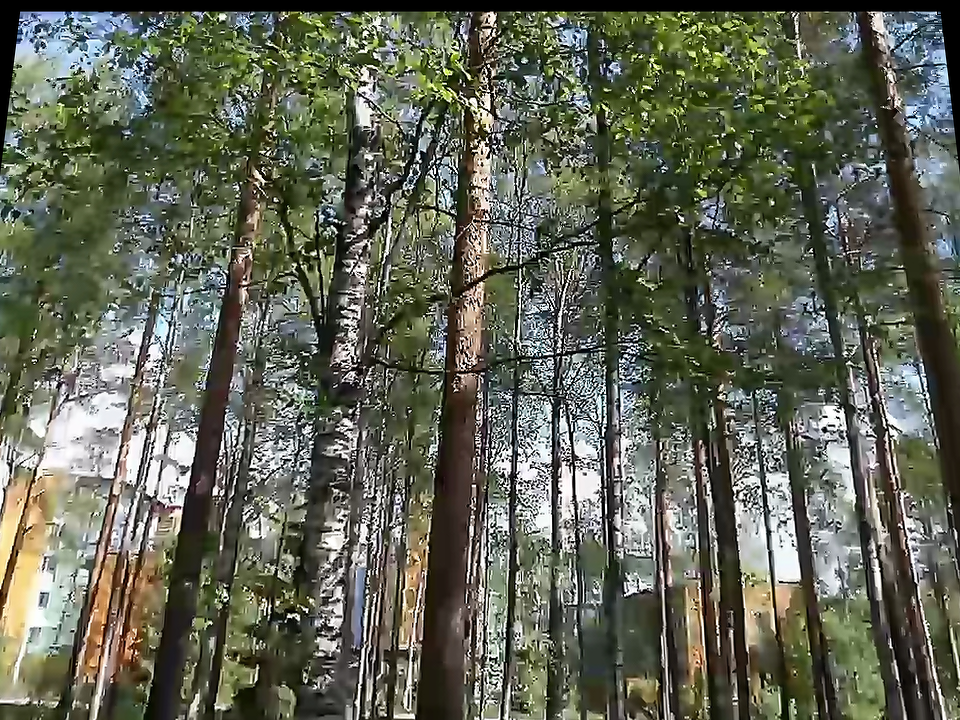branch: (377, 346, 601, 379), (457, 250, 533, 295), (417, 192, 456, 231)
trunk: (415, 60, 507, 713), (152, 263, 269, 598), (307, 312, 368, 703), (697, 425, 769, 713), (596, 342, 641, 709), (319, 110, 375, 308)
